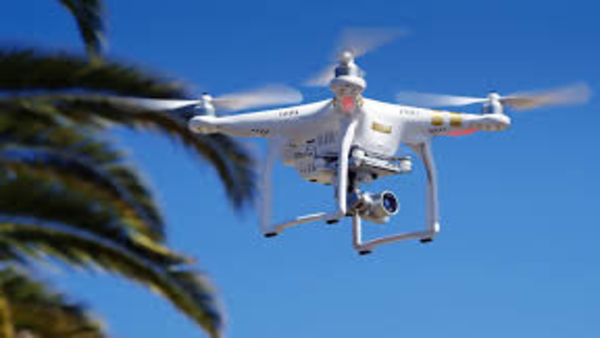drone: (162, 44, 528, 259)
